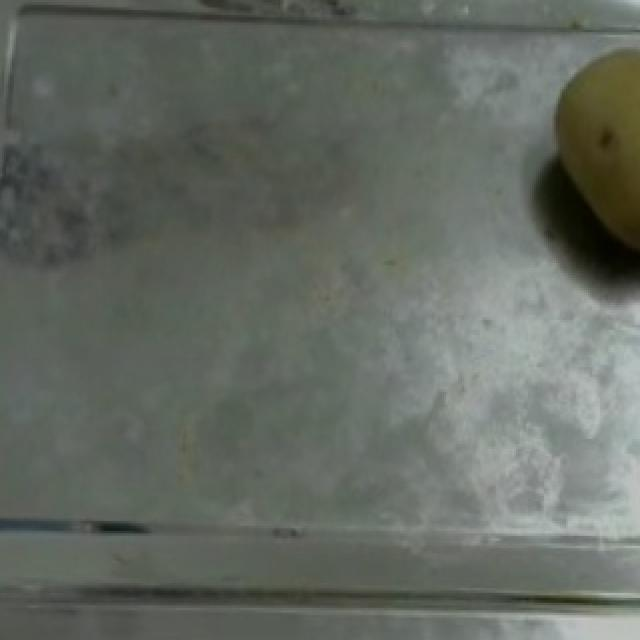Fruit: (544, 32, 640, 263)
